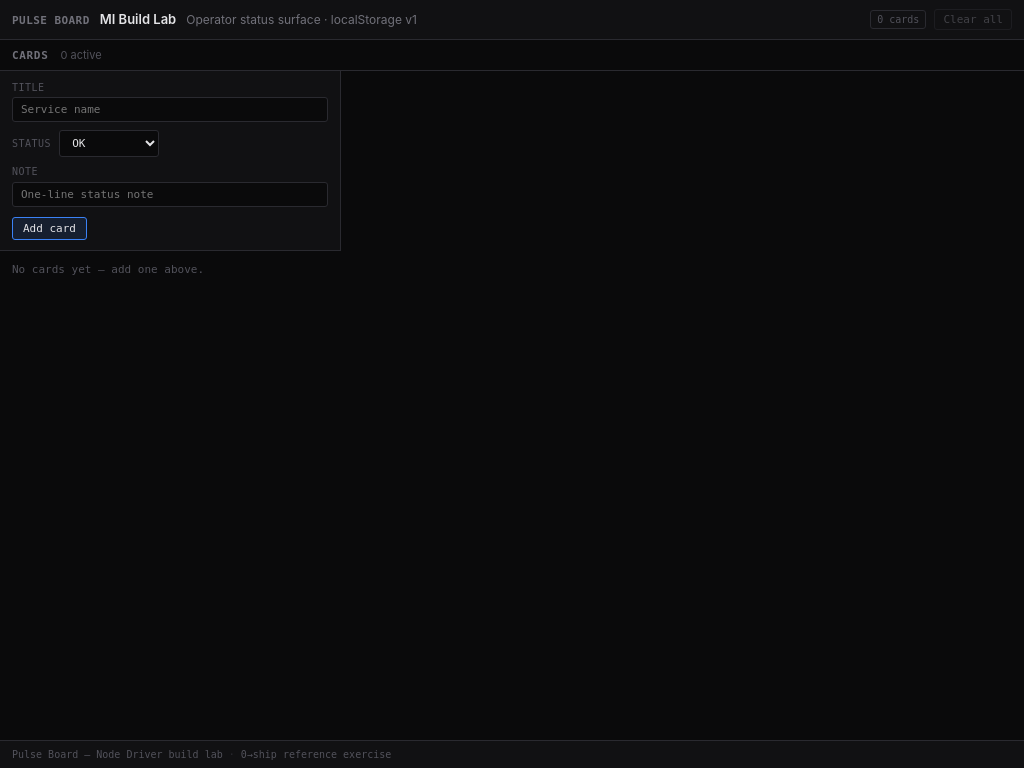
Test case: App smoke › clears all cards after confirm
This screenshot has width=1024, height=768.
Type "Temp" into the field labelled "Title" at x=170, y=110, box [12, 97, 328, 122]
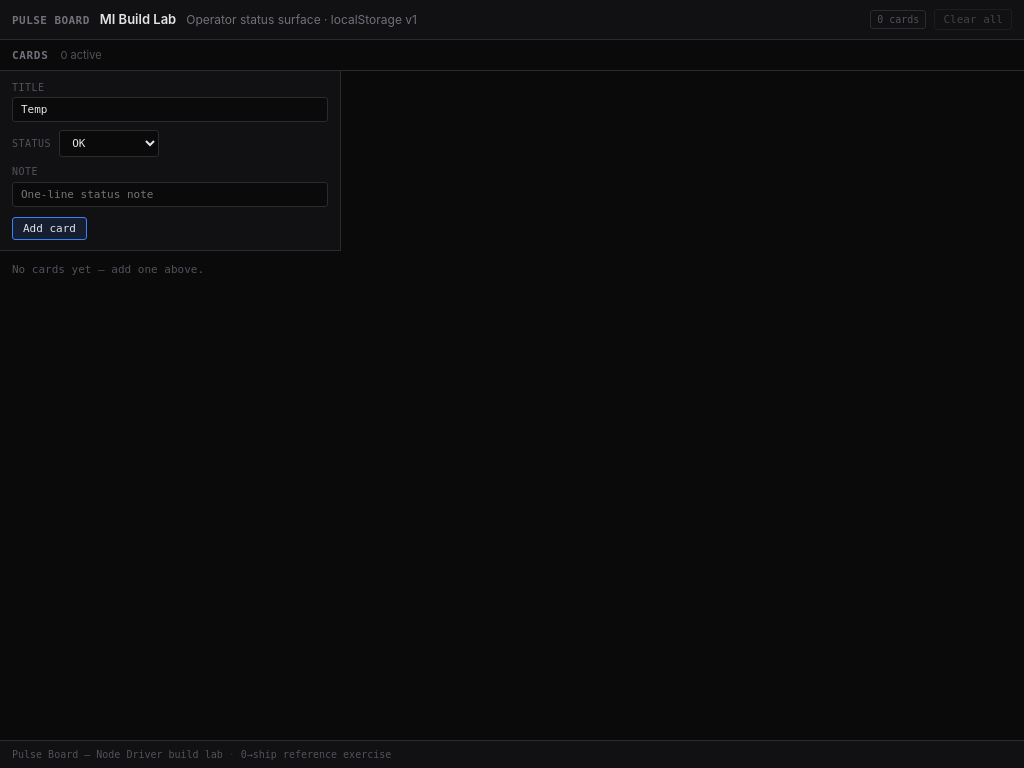
Click the button with test id "add-card-submit" at x=50, y=228, box [12, 217, 87, 240]
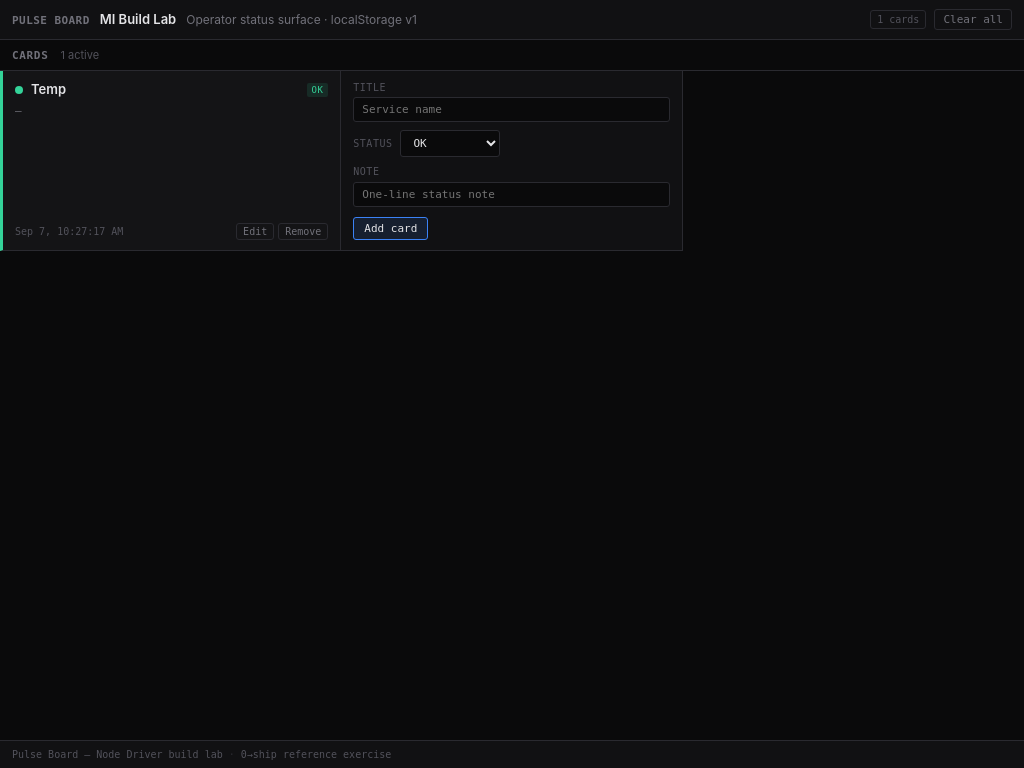
Now the heading "Temp" is shown, box [31, 81, 66, 97]
Click the button "Clear all" at x=973, y=20, box [934, 9, 1012, 30]
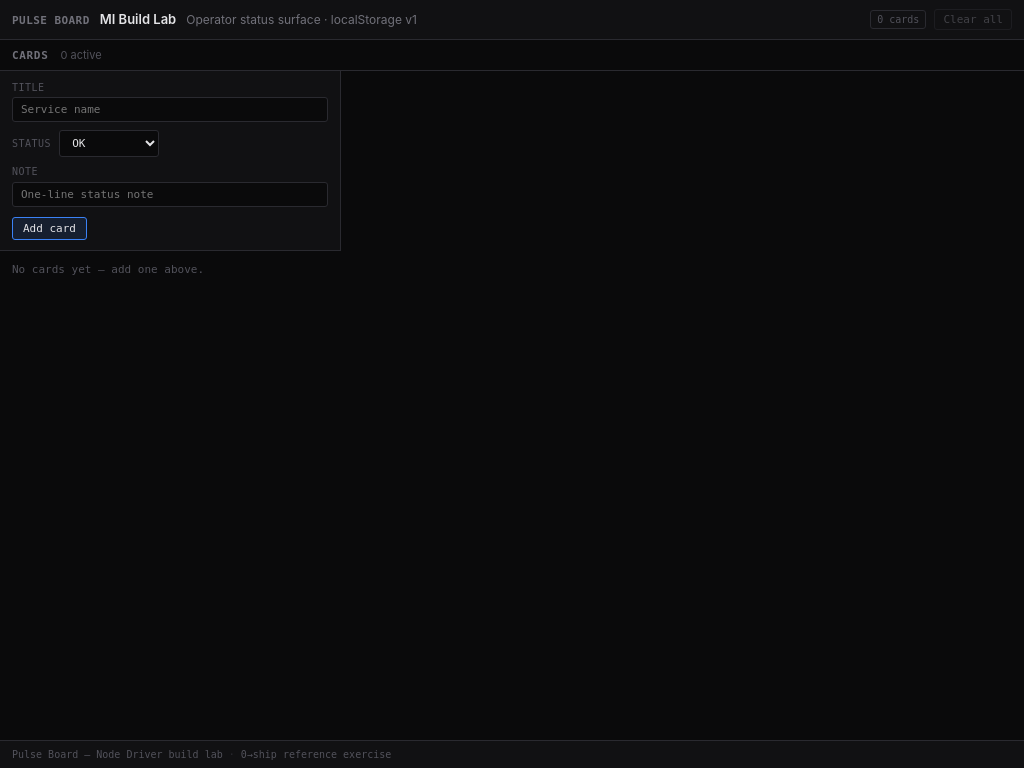
Now the heading "Temp" is gone
